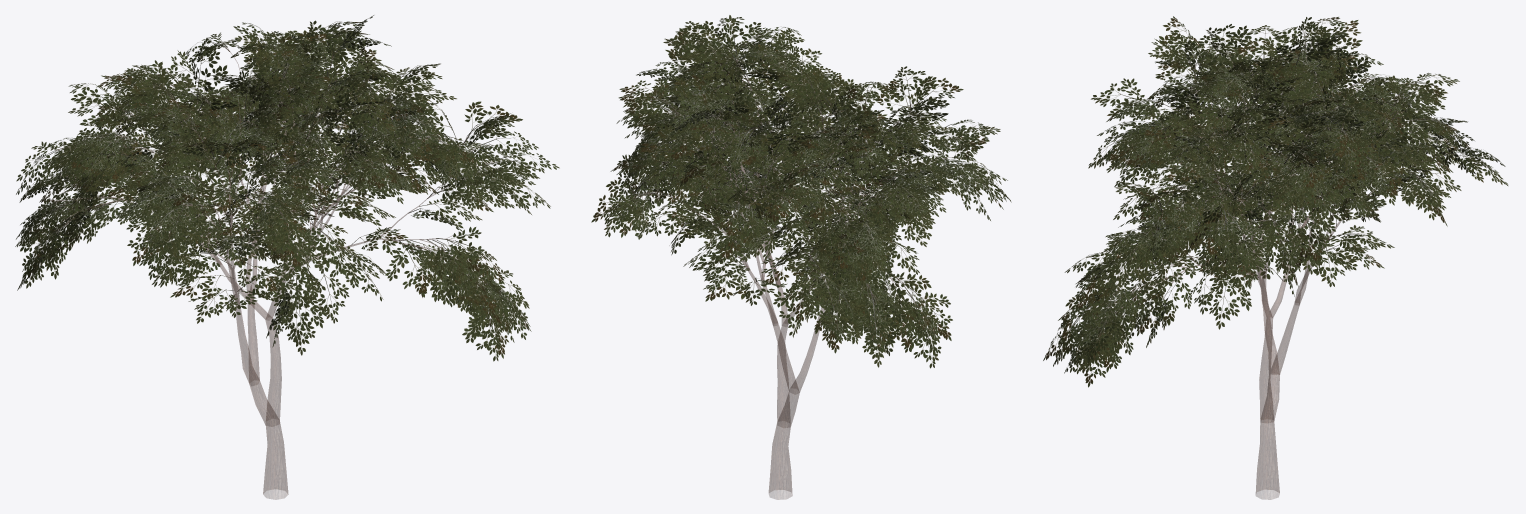
The model's file is tree_new4.glb.
3 views of the same model, side by side, from view 1: azimuth 30°, elevation 25°; view 2: azimuth 150°, elevation 25°; view 3: azimuth 270°, elevation 25° (orthographic). The views are drawn at different scales.
Parts seen in each view (by area): view 1: Tree; view 2: Tree; view 3: Tree.
Part boxes in pixels (x1,y1,x2,y2): Tree: (15,15,559,499); Tree: (591,15,1011,499); Tree: (1043,16,1508,499).
Bounding box in the file's own units: 3.63 × 3.82 × 3.55.
Materials: 2 (2 with a texture image).
